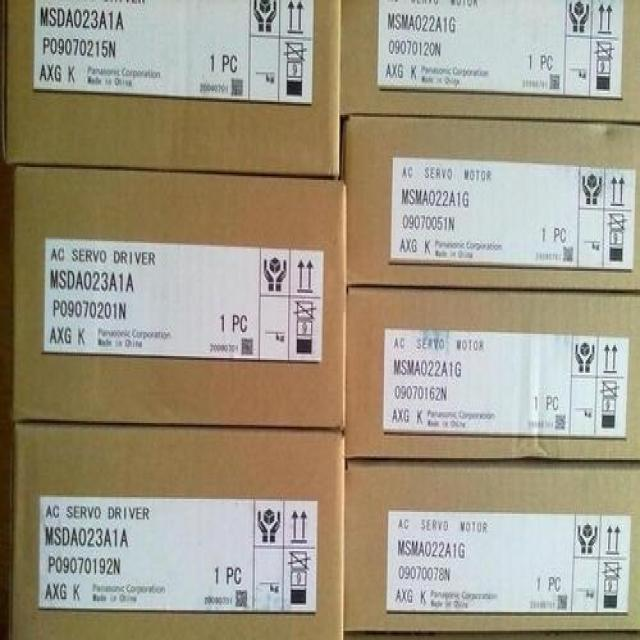Carton: (8, 0, 639, 638)
